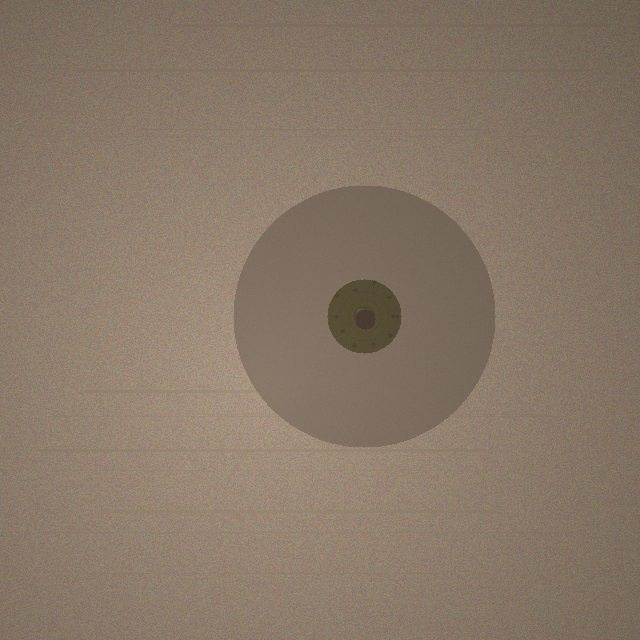cold_weld: (233, 185, 495, 447)
